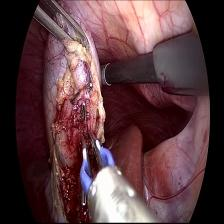Bipolar: (74, 128, 122, 207)
Grasper: (32, 0, 91, 58)
